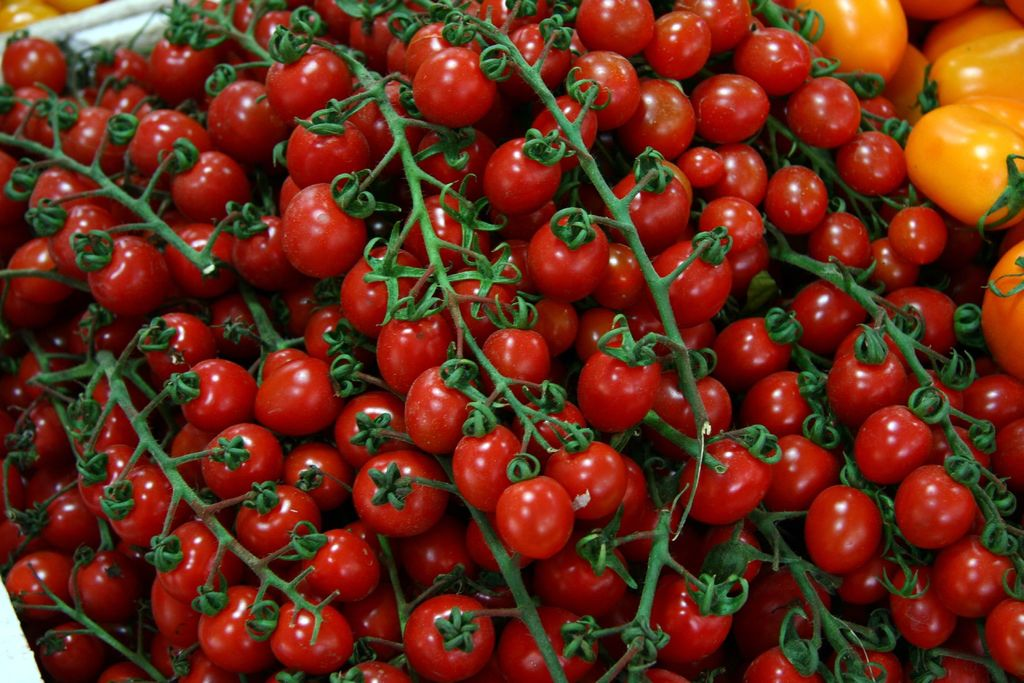Tomato: (2, 0, 1023, 682), (898, 92, 1023, 240), (797, 0, 912, 87), (917, 21, 1023, 110), (404, 31, 497, 125), (373, 278, 450, 386), (821, 486, 901, 574), (979, 235, 1023, 383), (924, 1, 1023, 59), (881, 42, 935, 131), (897, 0, 979, 24), (1002, 0, 1023, 23)
